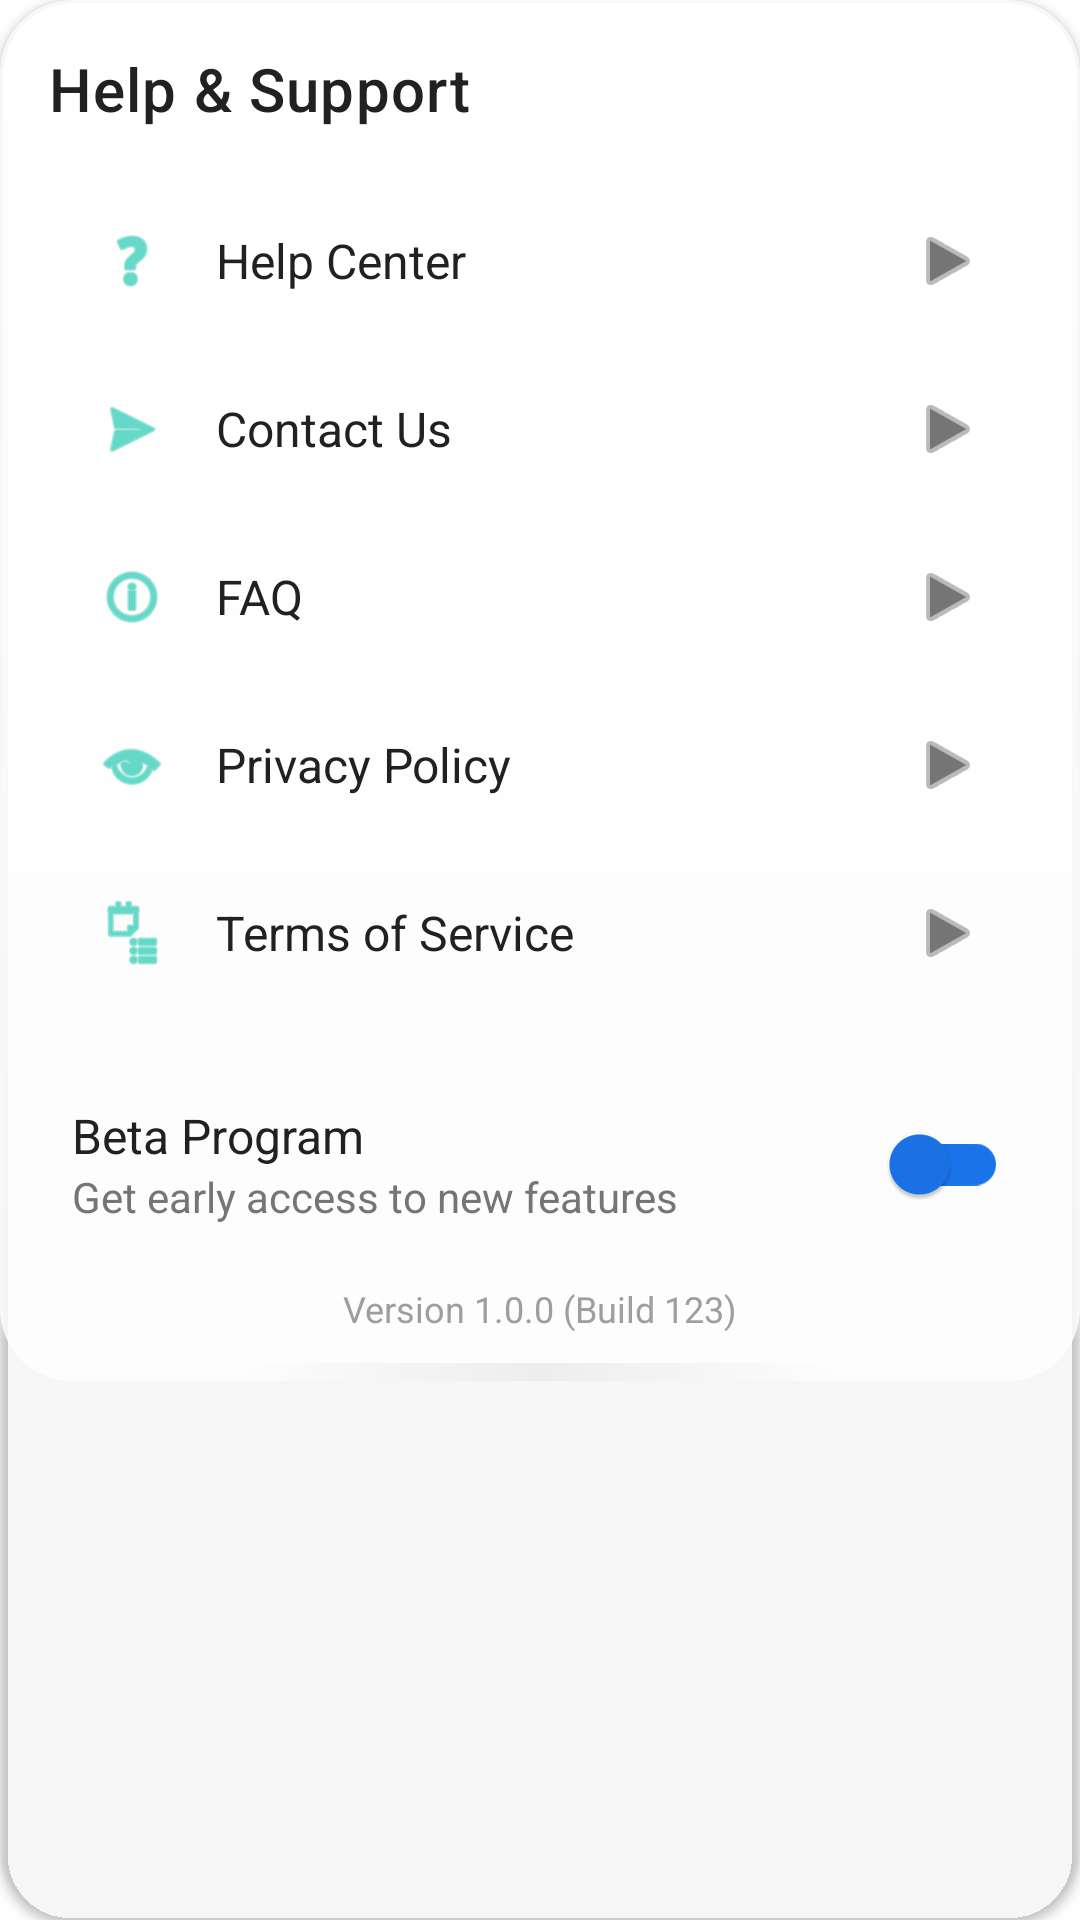

Icon bounding boxes for this 1080px x 1920px phone screenshot, format (x1,y1,x2,y2):
agenda: (107,901,158,965)
info details: (106,571,158,623)
play: (926,237,970,285), (926,405,970,453), (926,573,970,621), (926,741,970,789), (926,909,970,957)
send: (109,407,156,452)
view: (103,748,161,785)
